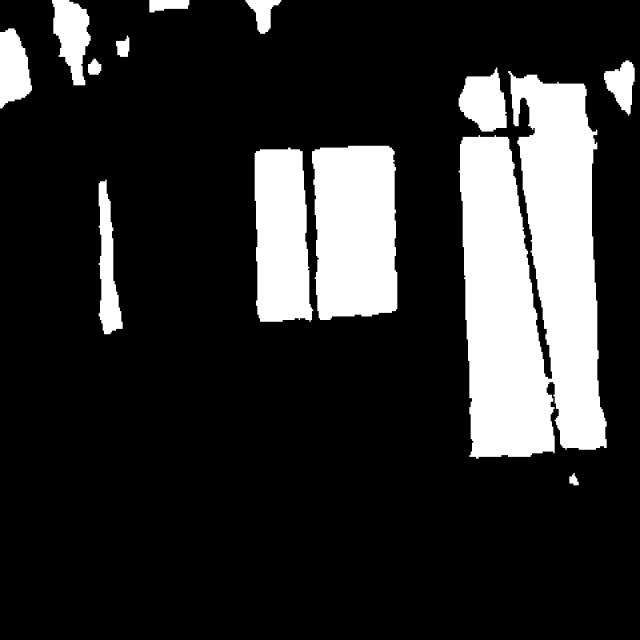fire: (437, 35, 640, 585), (173, 138, 419, 385), (4, 13, 298, 102)
